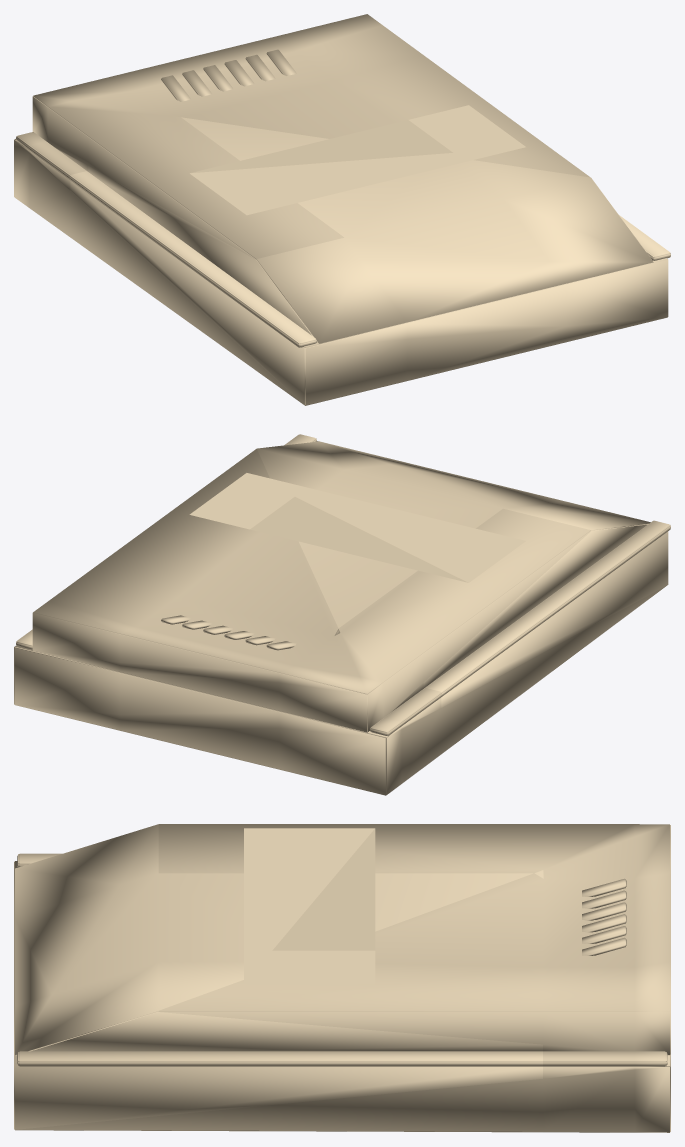
The model's file is block_heavy_tidemark.glb.
3 views of the same model, one above another, from view 1: azimuth 30°, elevation 25°; view 2: azimuth 150°, elevation 25°; view 3: azimuth 270°, elevation 25° (orthographic). The views are drawn at different scales.
Visible parts, largest first — view 1: block_heavy_tidemark; view 2: block_heavy_tidemark; view 3: block_heavy_tidemark.
Boxes of the visible parts, box(x1,y1,x2,y2) form: block_heavy_tidemark: box(14, 14, 670, 405); block_heavy_tidemark: box(14, 434, 670, 795); block_heavy_tidemark: box(14, 824, 670, 1132).
Size of the model in its own units: 6 by 1.65 by 8.
